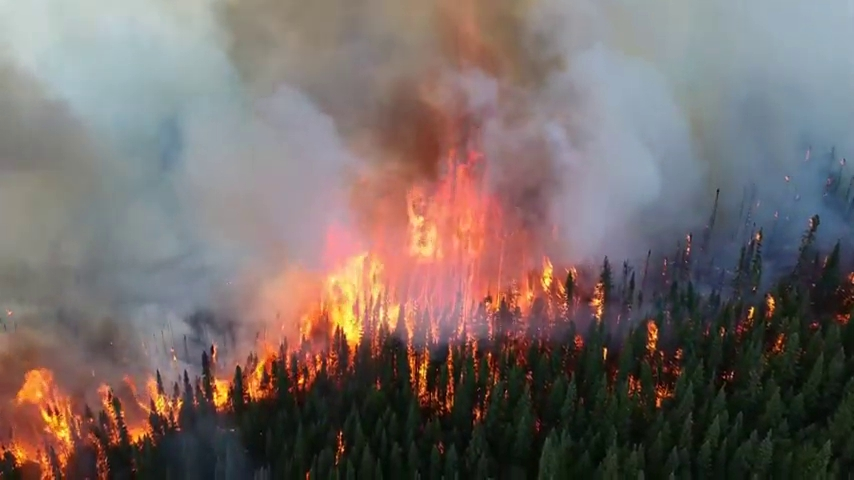forest_fire: (293, 166, 565, 402), (16, 369, 82, 463), (240, 340, 291, 398), (126, 378, 188, 417), (211, 374, 232, 410), (126, 421, 153, 440), (647, 320, 657, 353)
